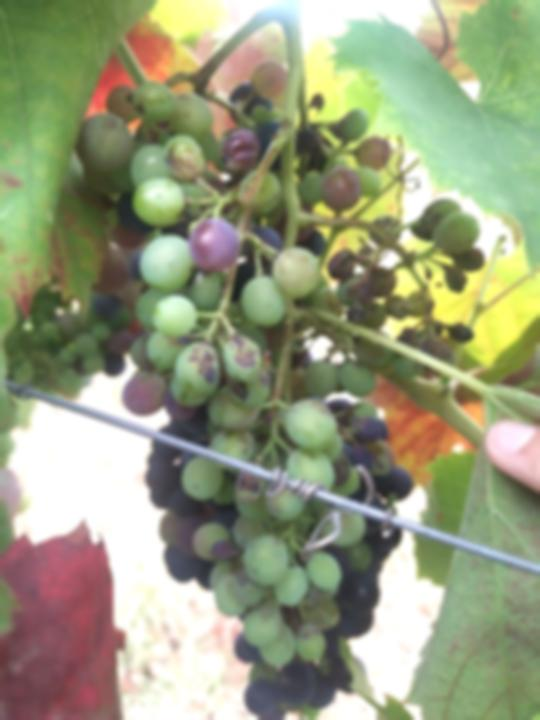grape: (71, 58, 490, 720)
